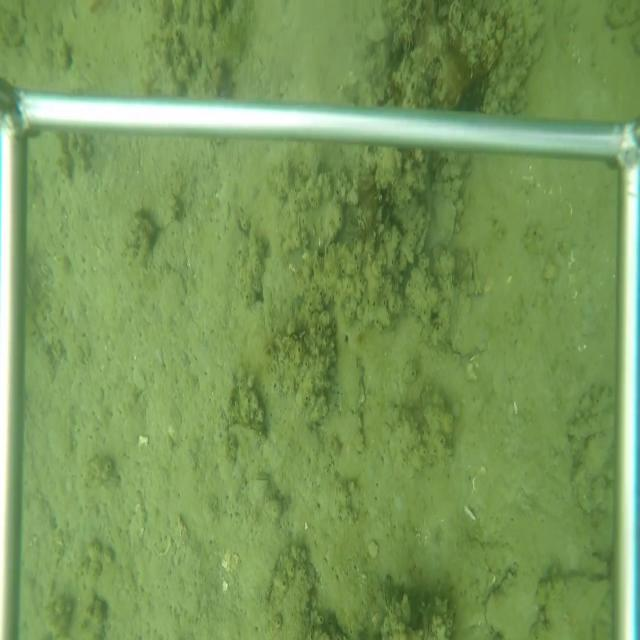Oyster-Closed: (225, 417, 268, 453), (382, 583, 394, 618)
Oyster-Indeterminate: (480, 558, 543, 639), (541, 568, 613, 635), (424, 193, 459, 254)
